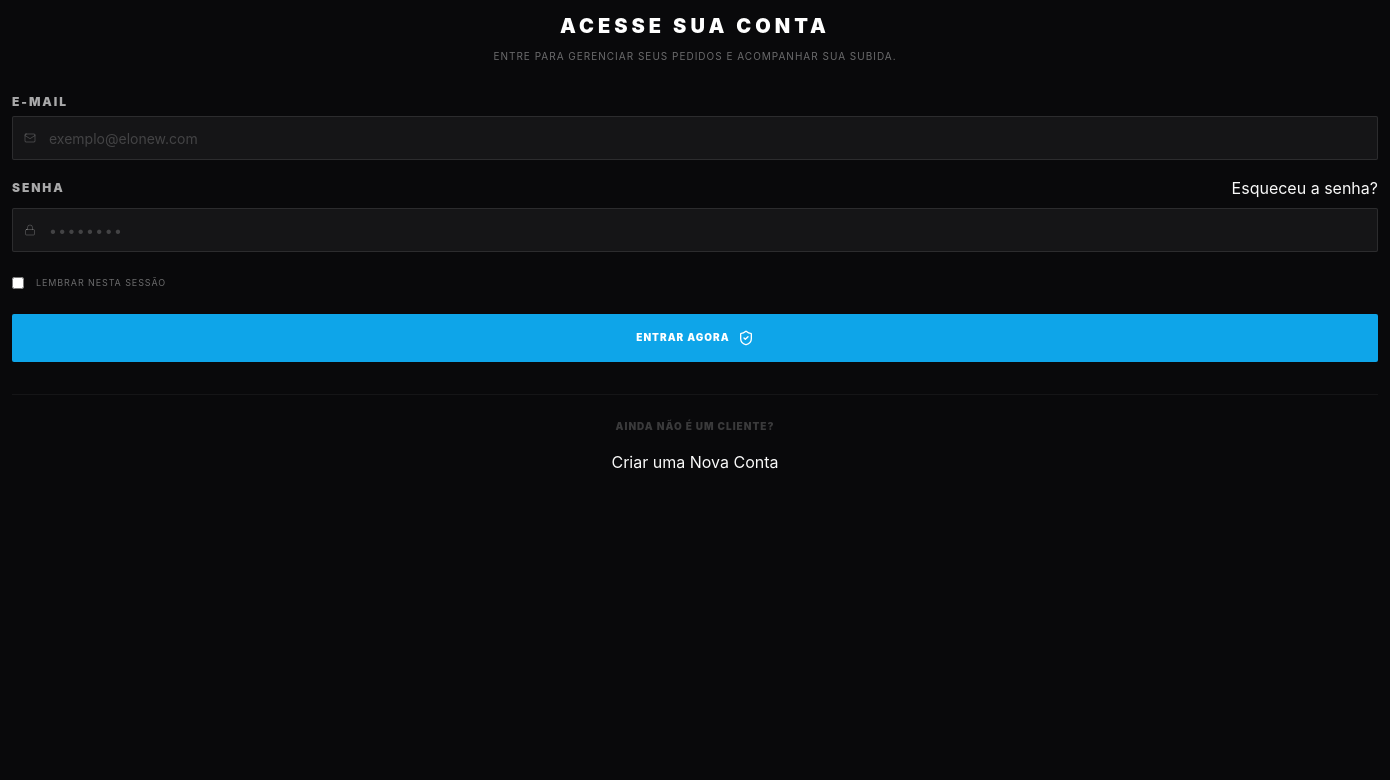
it: LoginForm › should display error message from loginAction
Type "test@example.com" into the field labelled "E-mail" at (695, 138), box x1=12 y1=116 x2=1378 y2=160
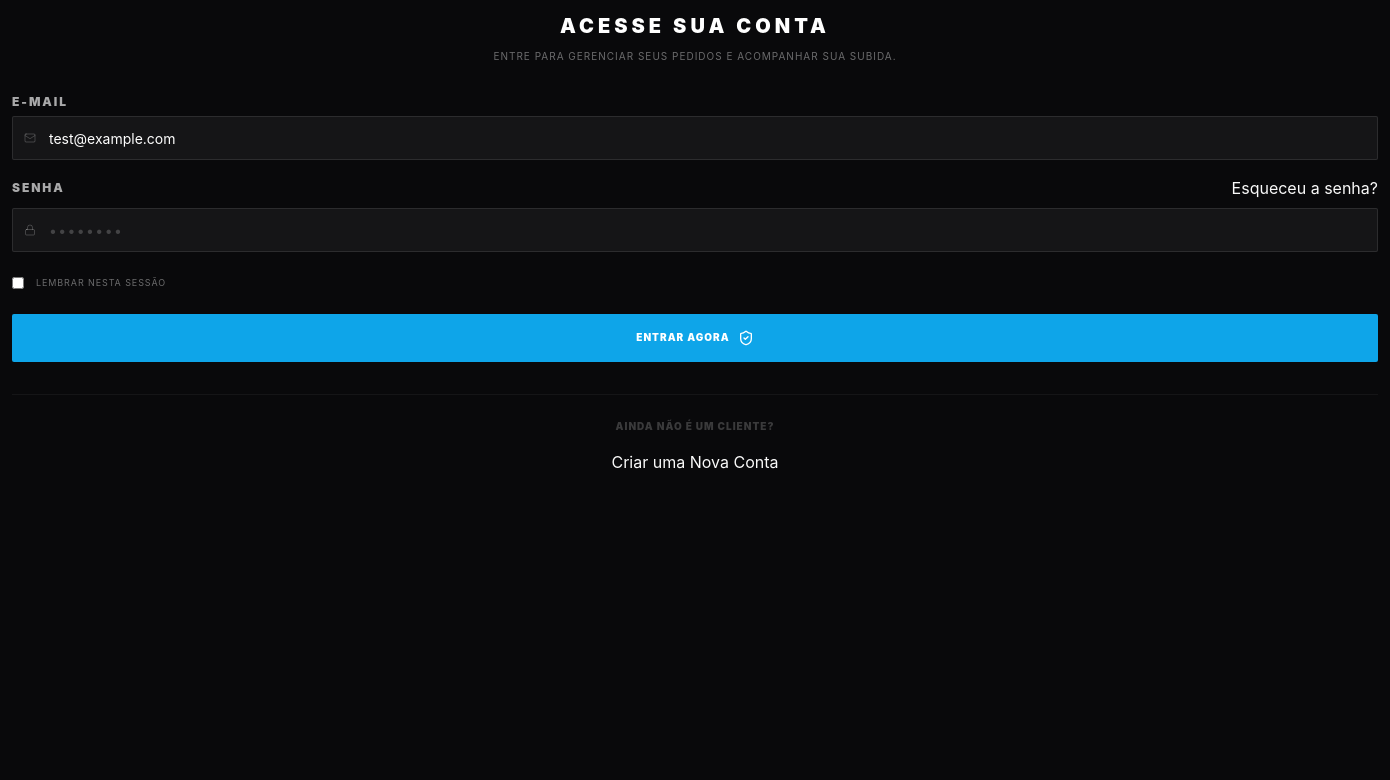
Type "wrong-password" into the password field labelled "Senha" at (695, 230), box x1=12 y1=208 x2=1378 y2=252
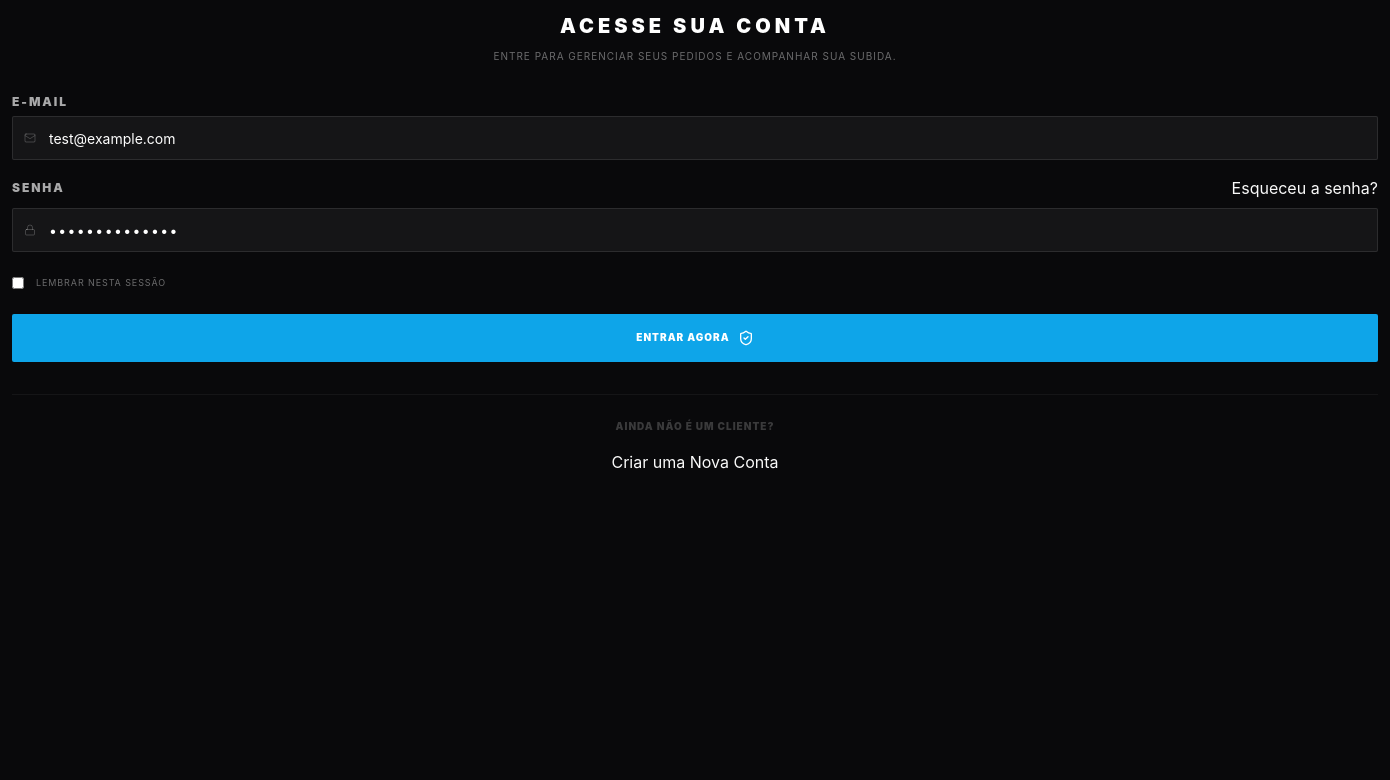
Click the button "Entrar Agora" at (695, 338), box x1=12 y1=314 x2=1378 y2=362
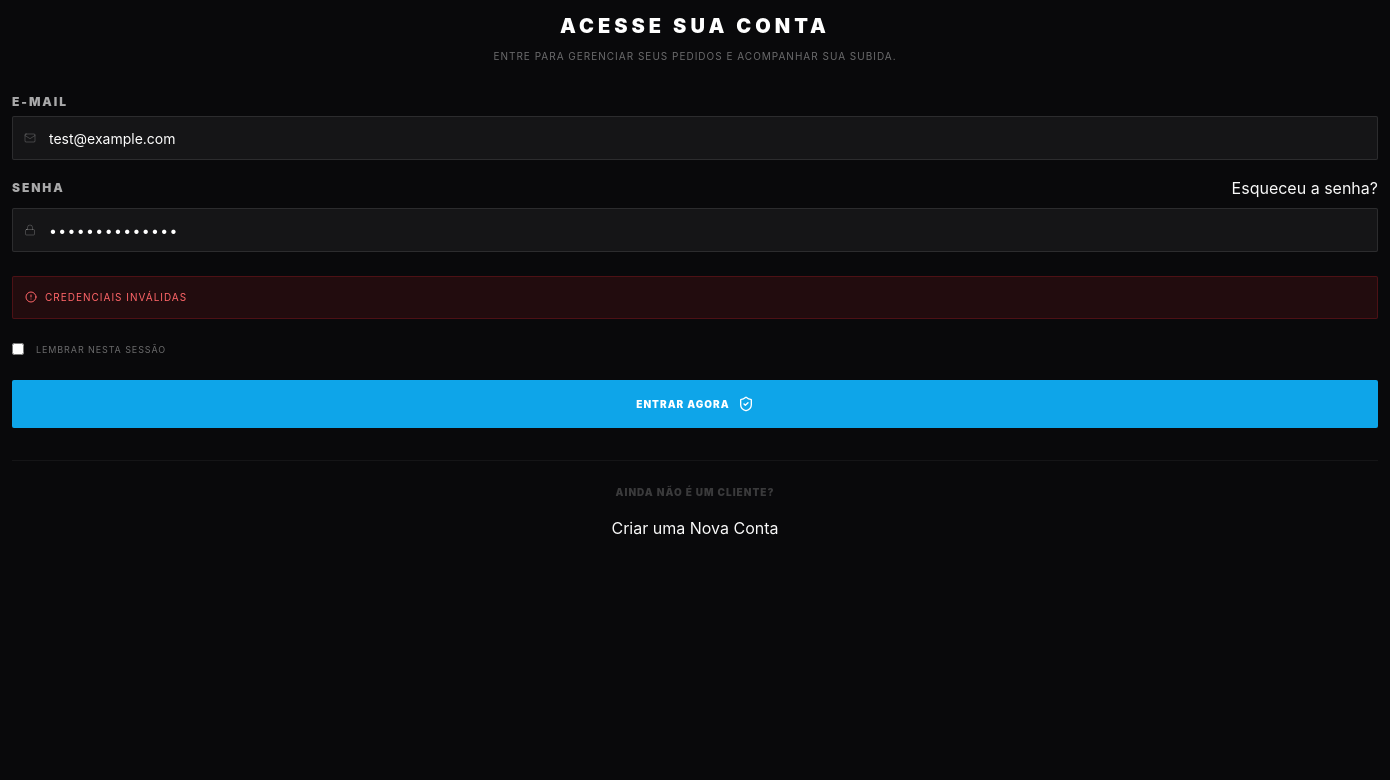
Result: the text "Credenciais inválidas" is shown at x1=45 y1=289 x2=187 y2=306
